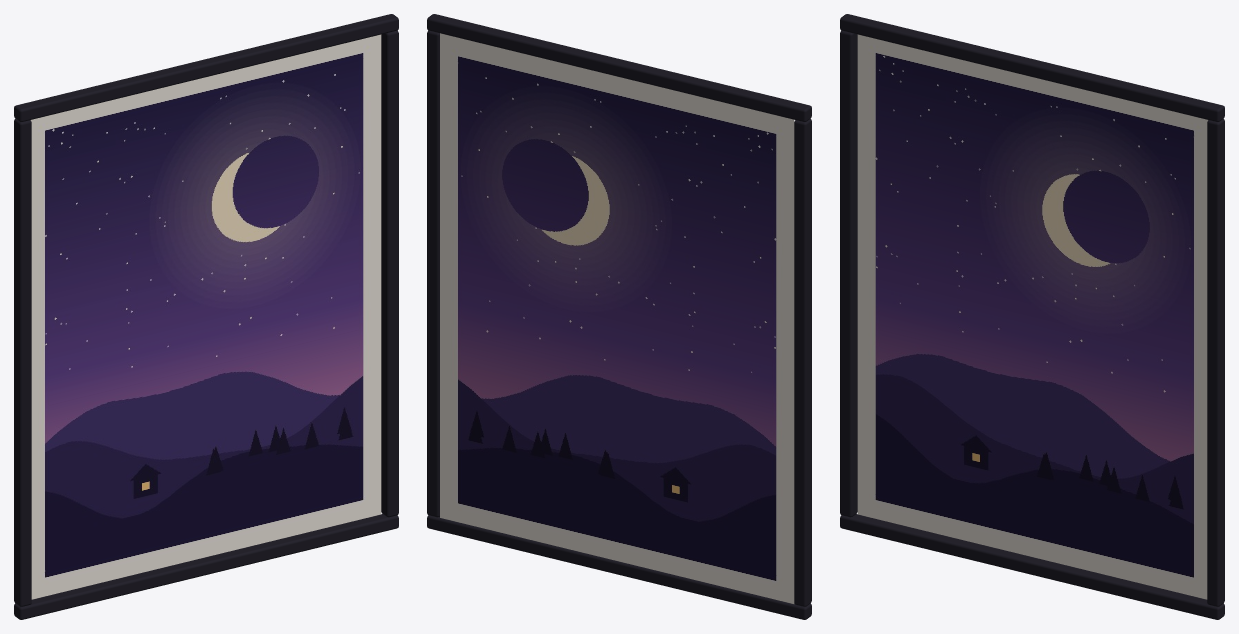
The model's file is poster_moon.fbx.
3 renders of one model, left to right at view 1: azimuth 30°, elevation 25°; view 2: azimuth 150°, elevation 25°; view 3: azimuth 330°, elevation 25°, orthographic.
Parts seen in each view (by area): view 1: poster_moon; view 2: poster_moon; view 3: poster_moon.
Boxes of the visible parts, x1,y1,x2,y2 form: poster_moon: (14, 14, 398, 619); poster_moon: (427, 14, 811, 619); poster_moon: (840, 14, 1224, 619).
Bounding box in the file's own units: 0.664 × 0.854 × 0.022.
